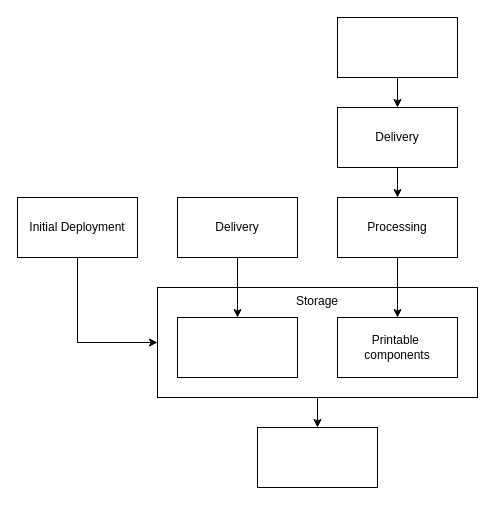
The diagram is 495 pixels wide and 505 high, and some of its shapes have lost their labels. The shapes that lost their labels are listed below. From the top down, each one's centre as x and y in pixels, then its label:
At [397,47]: "Foraging".
At [237,347]: "Non-Printable components".
At [317,457]: "Assembly".
